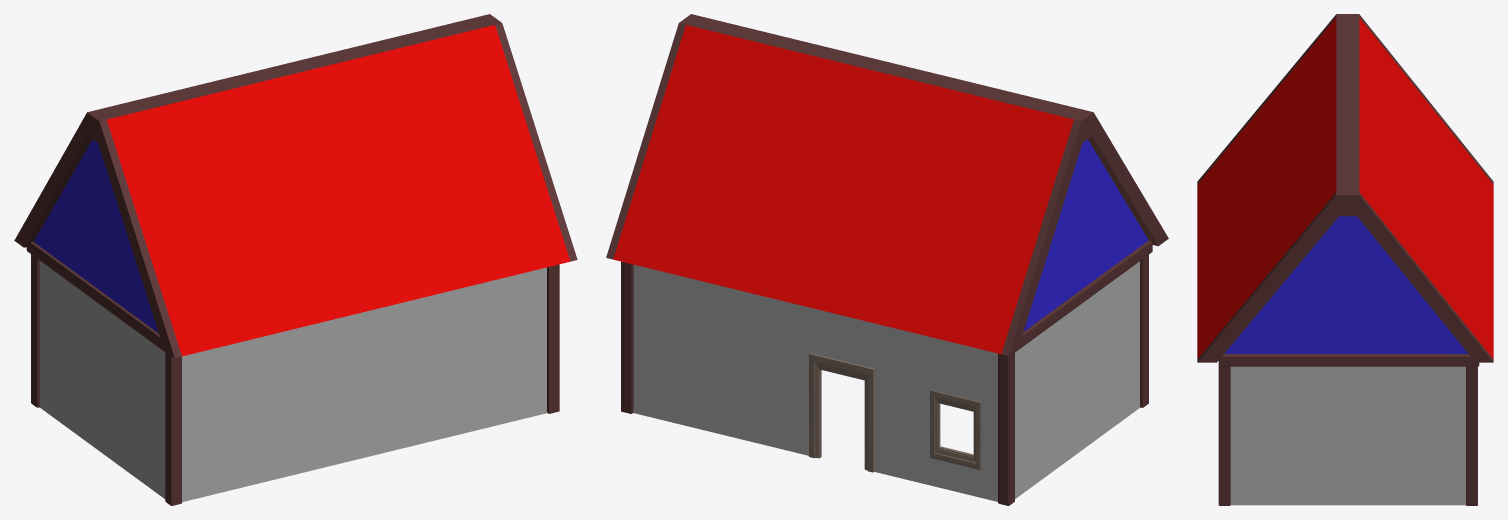
The model's file is shack_rianne.fbx.
3 views of the same model, side by side, from view 1: azimuth 30°, elevation 25°; view 2: azimuth 150°, elevation 25°; view 3: azimuth 270°, elevation 25° (orthographic). The views are drawn at different scales.
Visible parts, largest first — view 1: Shack; view 2: Shack; view 3: Shack.
Part boxes in pixels (x1,y1,x2,y2): Shack: [14, 14, 577, 505]; Shack: [606, 14, 1168, 505]; Shack: [1197, 14, 1493, 505].
Bounding box in the file's own units: 10.61 × 8.58 × 7.33.
